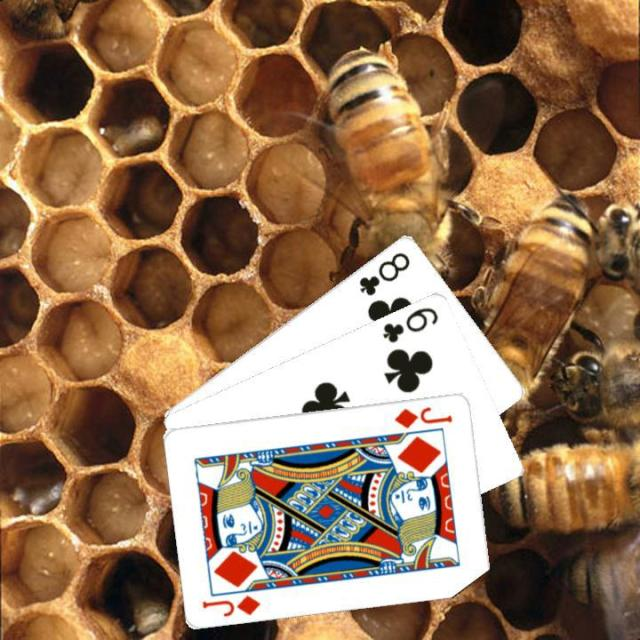6C: (379, 302, 441, 344)
8C: (354, 248, 412, 298)
JD: (199, 590, 263, 619), (390, 403, 454, 429)
